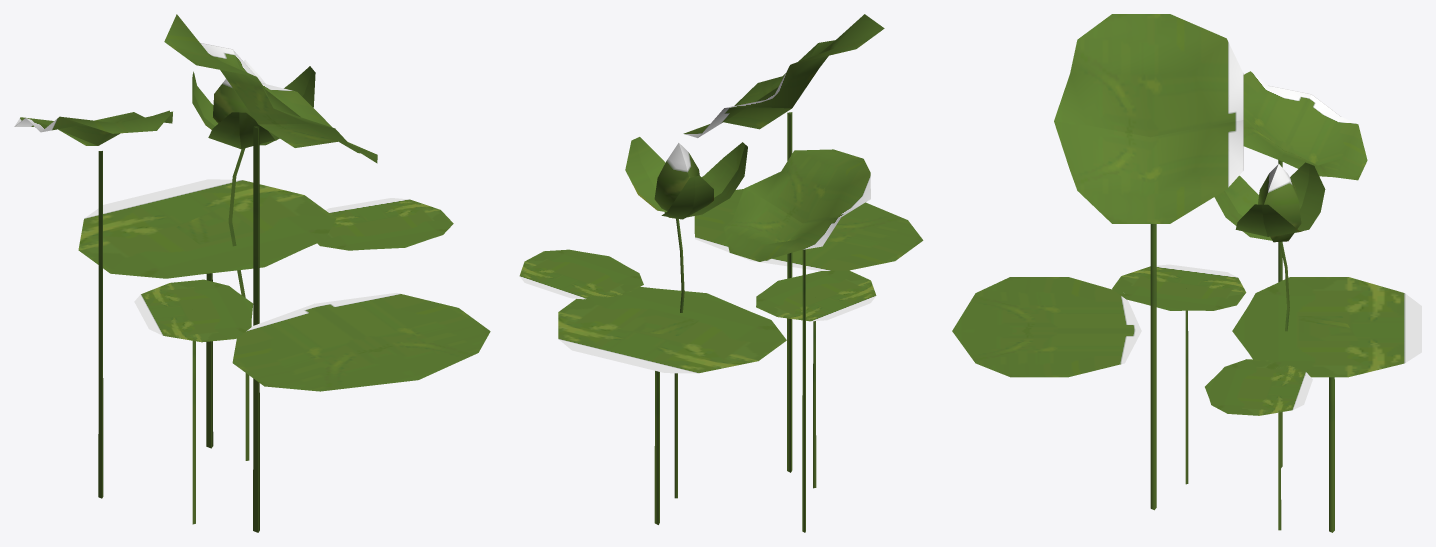
Rendered from City_bujian_51.fbx.
3 views of the same model, side by side, from view 1: azimuth 30°, elevation 25°; view 2: azimuth 150°, elevation 25°; view 3: azimuth 270°, elevation 25° (orthographic). The views are drawn at different scales.
Parts seen in each view (by area): view 1: polySurface2516; view 2: polySurface2516; view 3: polySurface2516.
Part boxes in pixels (<box>): polySurface2516: <box>14,14,490,532</box>; polySurface2516: <box>519,14,923,532</box>; polySurface2516: <box>952,14,1421,532</box>.
Bounding box in the file's own units: 13.64 × 16.59 × 15.43.
